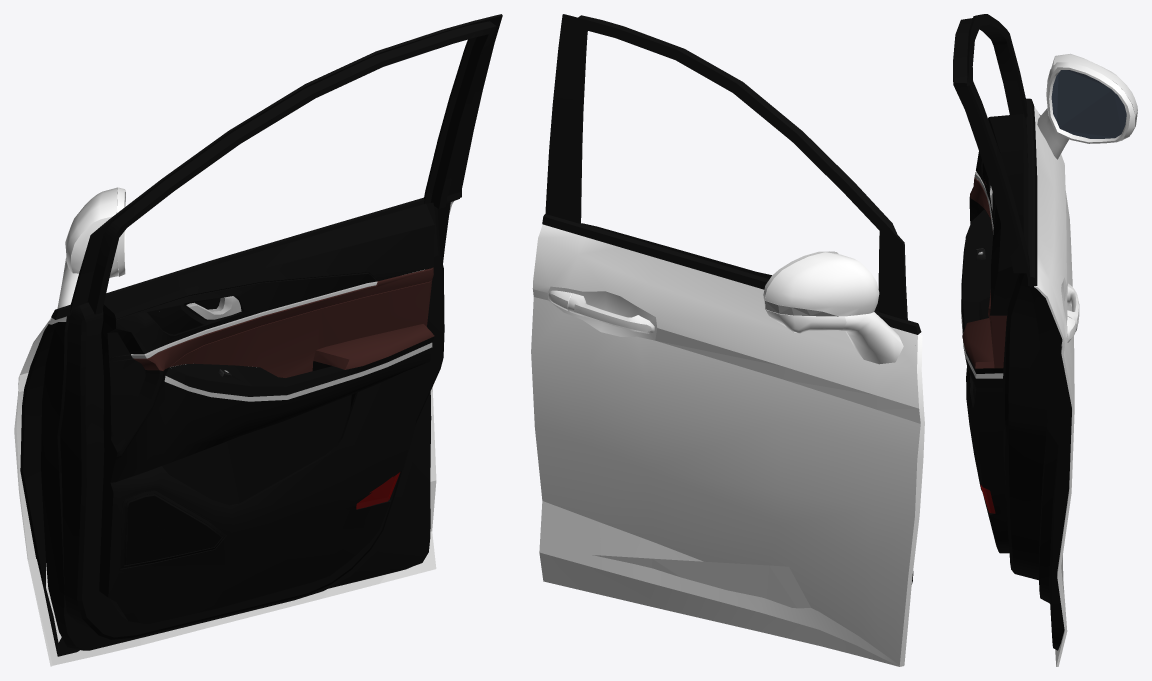
File: door_front_right.FBX
The picture shows the model from 3 angles, left to right: view 1: azimuth 30°, elevation 25°; view 2: azimuth 150°, elevation 25°; view 3: azimuth 270°, elevation 25°; orthographic projection. The views are drawn at different scales.
Parts seen in each view (by area): view 1: Sphere008_ID013, Sphere008_ID3, Sphere008_ID6, Sphere008_ID1, Sphere008_ID8, Sphere008_ID5, Sphere008_ID2, Sphere008_ID11; view 2: Sphere008_ID1, Sphere008_ID3, Sphere008_ID2, Sphere008_ID11, Sphere008_ID013; view 3: Sphere008_ID013, Sphere008_ID1, Sphere008_ID3, Sphere008_ID7, Sphere008_ID2, Sphere008_ID6, Sphere008_ID11, Sphere008_ID5.
Boxes of the visible parts, x1=… form: Sphere008_ID013: x1=20, y1=202, x2=450, y2=656; Sphere008_ID3: x1=70, y1=14, x2=502, y2=314; Sphere008_ID6: x1=133, y1=267, x2=434, y2=377; Sphere008_ID1: x1=14, y1=201, x2=453, y2=666; Sphere008_ID8: x1=126, y1=305, x2=221, y2=564; Sphere008_ID5: x1=116, y1=212, x2=432, y2=401; Sphere008_ID2: x1=57, y1=187, x2=125, y2=308; Sphere008_ID11: x1=51, y1=190, x2=461, y2=319; Sphere008_ID1: x1=531, y1=224, x2=924, y2=666; Sphere008_ID3: x1=545, y1=14, x2=907, y2=320; Sphere008_ID2: x1=763, y1=251, x2=903, y2=364; Sphere008_ID11: x1=542, y1=214, x2=921, y2=334; Sphere008_ID013: x1=581, y1=223, x2=913, y2=584; Sphere008_ID013: x1=961, y1=113, x2=1071, y2=650; Sphere008_ID1: x1=1034, y1=107, x2=1079, y2=666; Sphere008_ID3: x1=953, y1=14, x2=1032, y2=287; Sphere008_ID7: x1=1051, y1=70, x2=1126, y2=138; Sphere008_ID2: x1=1037, y1=53, x2=1137, y2=159; Sphere008_ID6: x1=962, y1=177, x2=1006, y2=368; Sphere008_ID11: x1=1026, y1=98, x2=1037, y2=285; Sphere008_ID5: x1=961, y1=103, x2=1137, y2=378.
Size of the model in its own units: 36.65 by 46.26 by 13.06.
10 materials, 1 textured.
